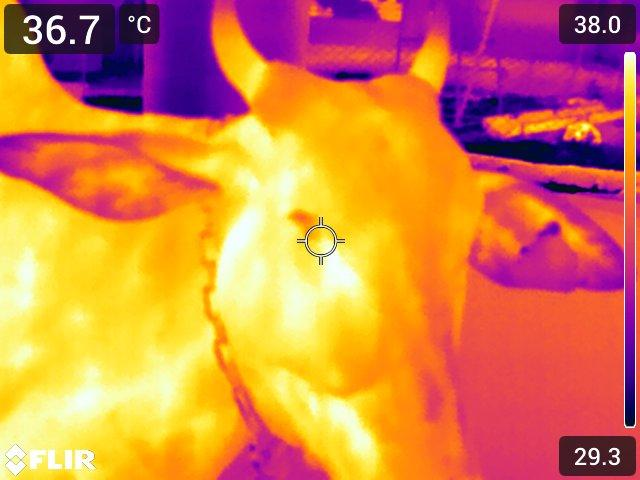ear: (0, 127, 236, 227), (463, 179, 624, 292)
eyes: (277, 204, 348, 256)
